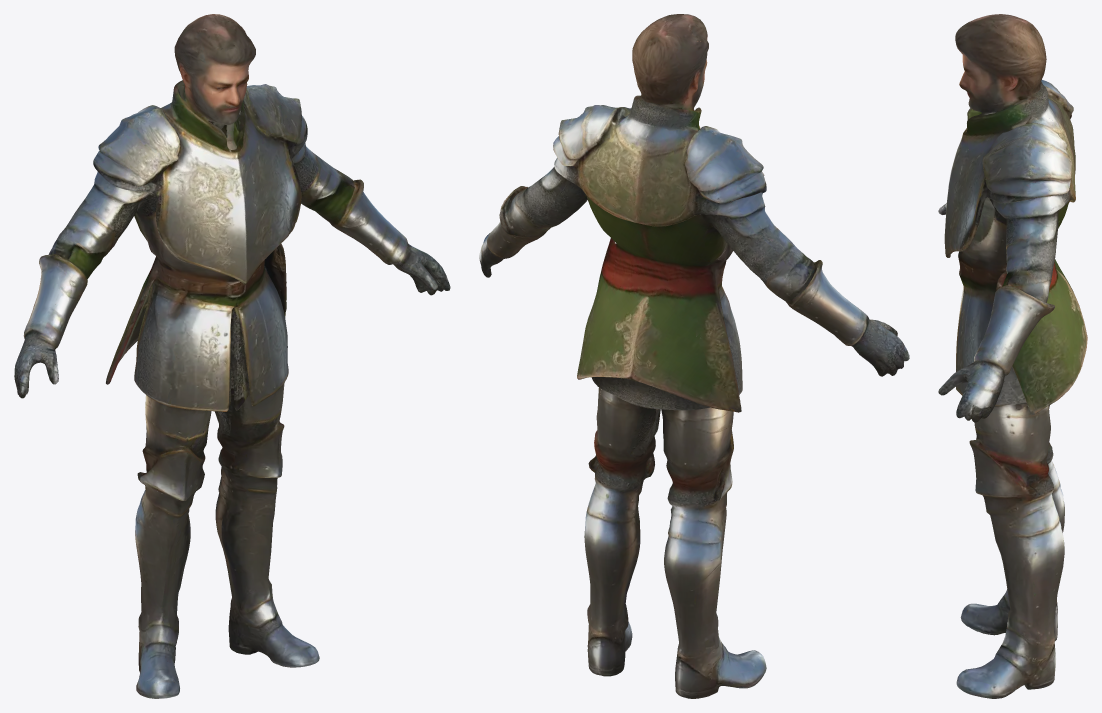
File: oath_knight.glb
3 renders of one model, left to right at view 1: azimuth 30°, elevation 25°; view 2: azimuth 150°, elevation 25°; view 3: azimuth 270°, elevation 25°, orthographic.
Visible parts, largest first — view 1: outfit; view 2: outfit; view 3: outfit.
Boxes of the visible parts, x1=… form: outfit: x1=14, y1=14, x2=450, y2=698; outfit: x1=479, y1=14, x2=909, y2=698; outfit: x1=938, y1=14, x2=1087, y2=698.
Size of the model in its own units: 1.23 by 1.8 by 0.3805.
Materials: 1 (1 with a texture image).
